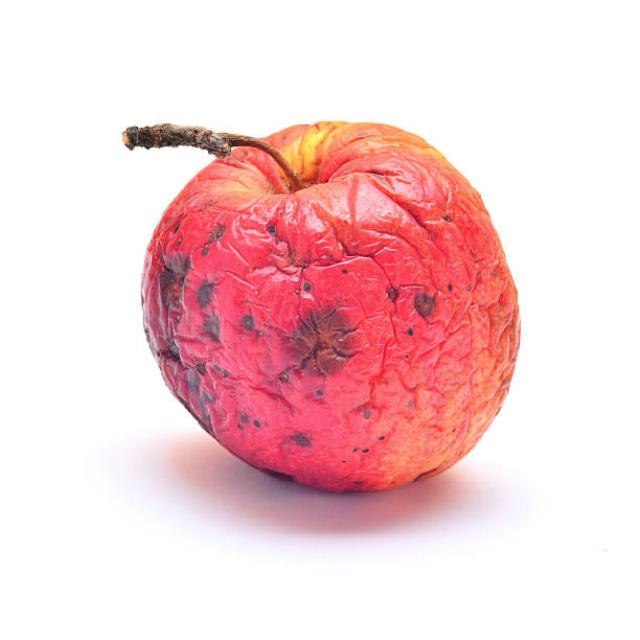overripe: (129, 117, 528, 498)
